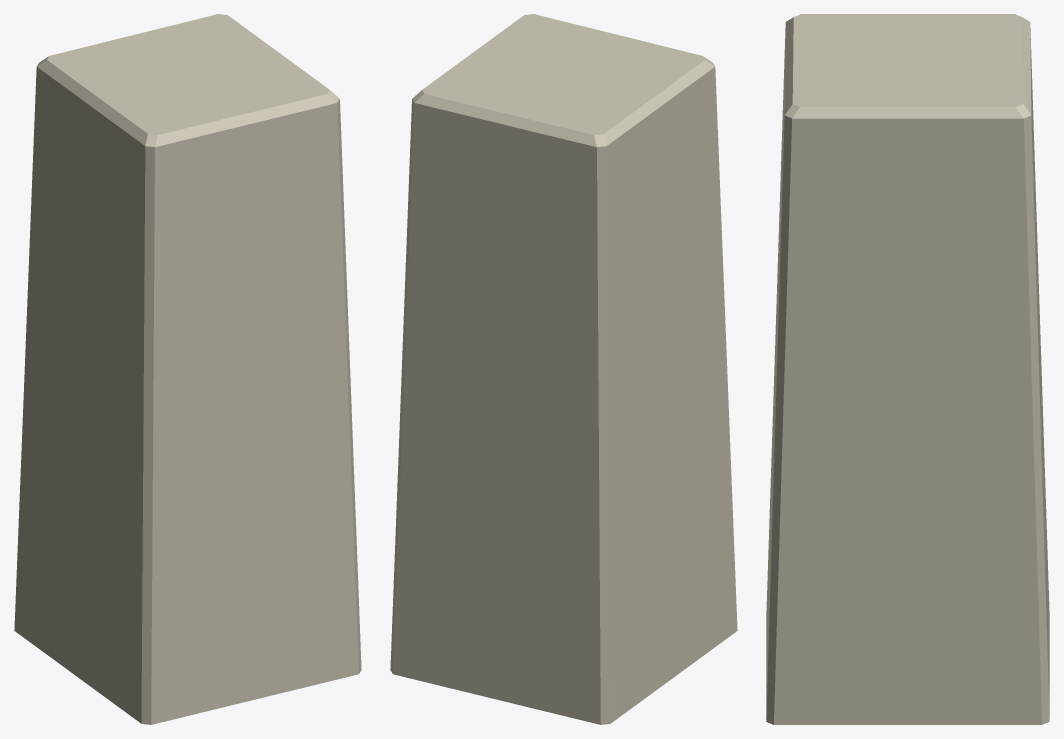
The model's file is Rock_Square_l_01.fbx.
3 renders of one model, left to right at view 1: azimuth 30°, elevation 25°; view 2: azimuth 150°, elevation 25°; view 3: azimuth 270°, elevation 25°, orthographic. The views are drawn at different scales.
Parts seen in each view (by area): view 1: Rock_Square_l_01; view 2: Rock_Square_l_01; view 3: Rock_Square_l_01.
Boxes of the visible parts, <box> form: Rock_Square_l_01: <box>14,14,361,724</box>; Rock_Square_l_01: <box>390,14,737,724</box>; Rock_Square_l_01: <box>766,14,1049,724</box>.
Size of the model in its own units: 137 by 344 by 145.
